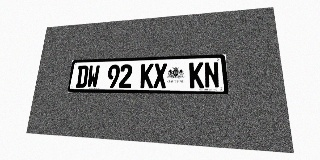2: (119, 64, 132, 88)
9: (107, 64, 120, 88)
D: (75, 65, 89, 88)
K: (189, 62, 204, 88), (140, 63, 154, 88)
N: (204, 62, 220, 88)
W: (86, 65, 100, 88)
X: (153, 63, 167, 88)
